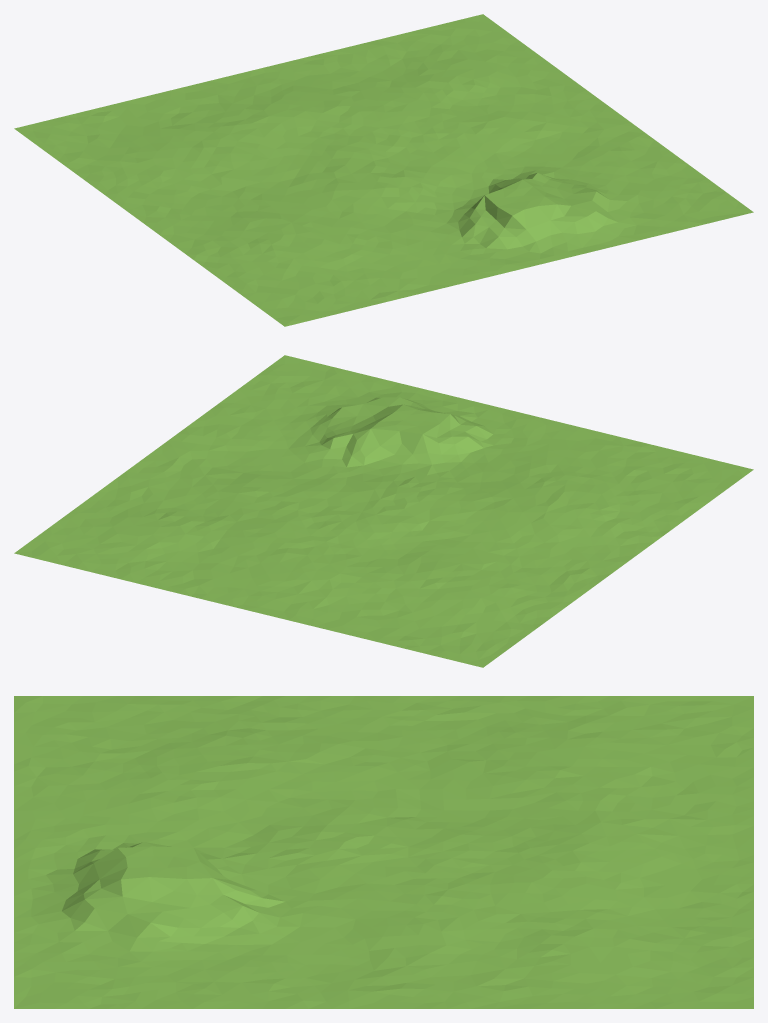
File: MT_Terrain_L_d_12.fbx
The picture shows the model from 3 angles, top to bottom: view 1: azimuth 30°, elevation 25°; view 2: azimuth 150°, elevation 25°; view 3: azimuth 270°, elevation 25°; orthographic projection. The views are drawn at different scales.
Parts seen in each view (by area): view 1: MT_Terrain_L_d_12; view 2: MT_Terrain_L_d_12; view 3: MT_Terrain_L_d_12.
Boxes of the visible parts, <box> form: MT_Terrain_L_d_12: <box>14,14,753,326</box>; MT_Terrain_L_d_12: <box>14,355,753,667</box>; MT_Terrain_L_d_12: <box>14,696,753,1008</box>.
Bounding box in the file's own units: 10000 × 421 × 10000.
